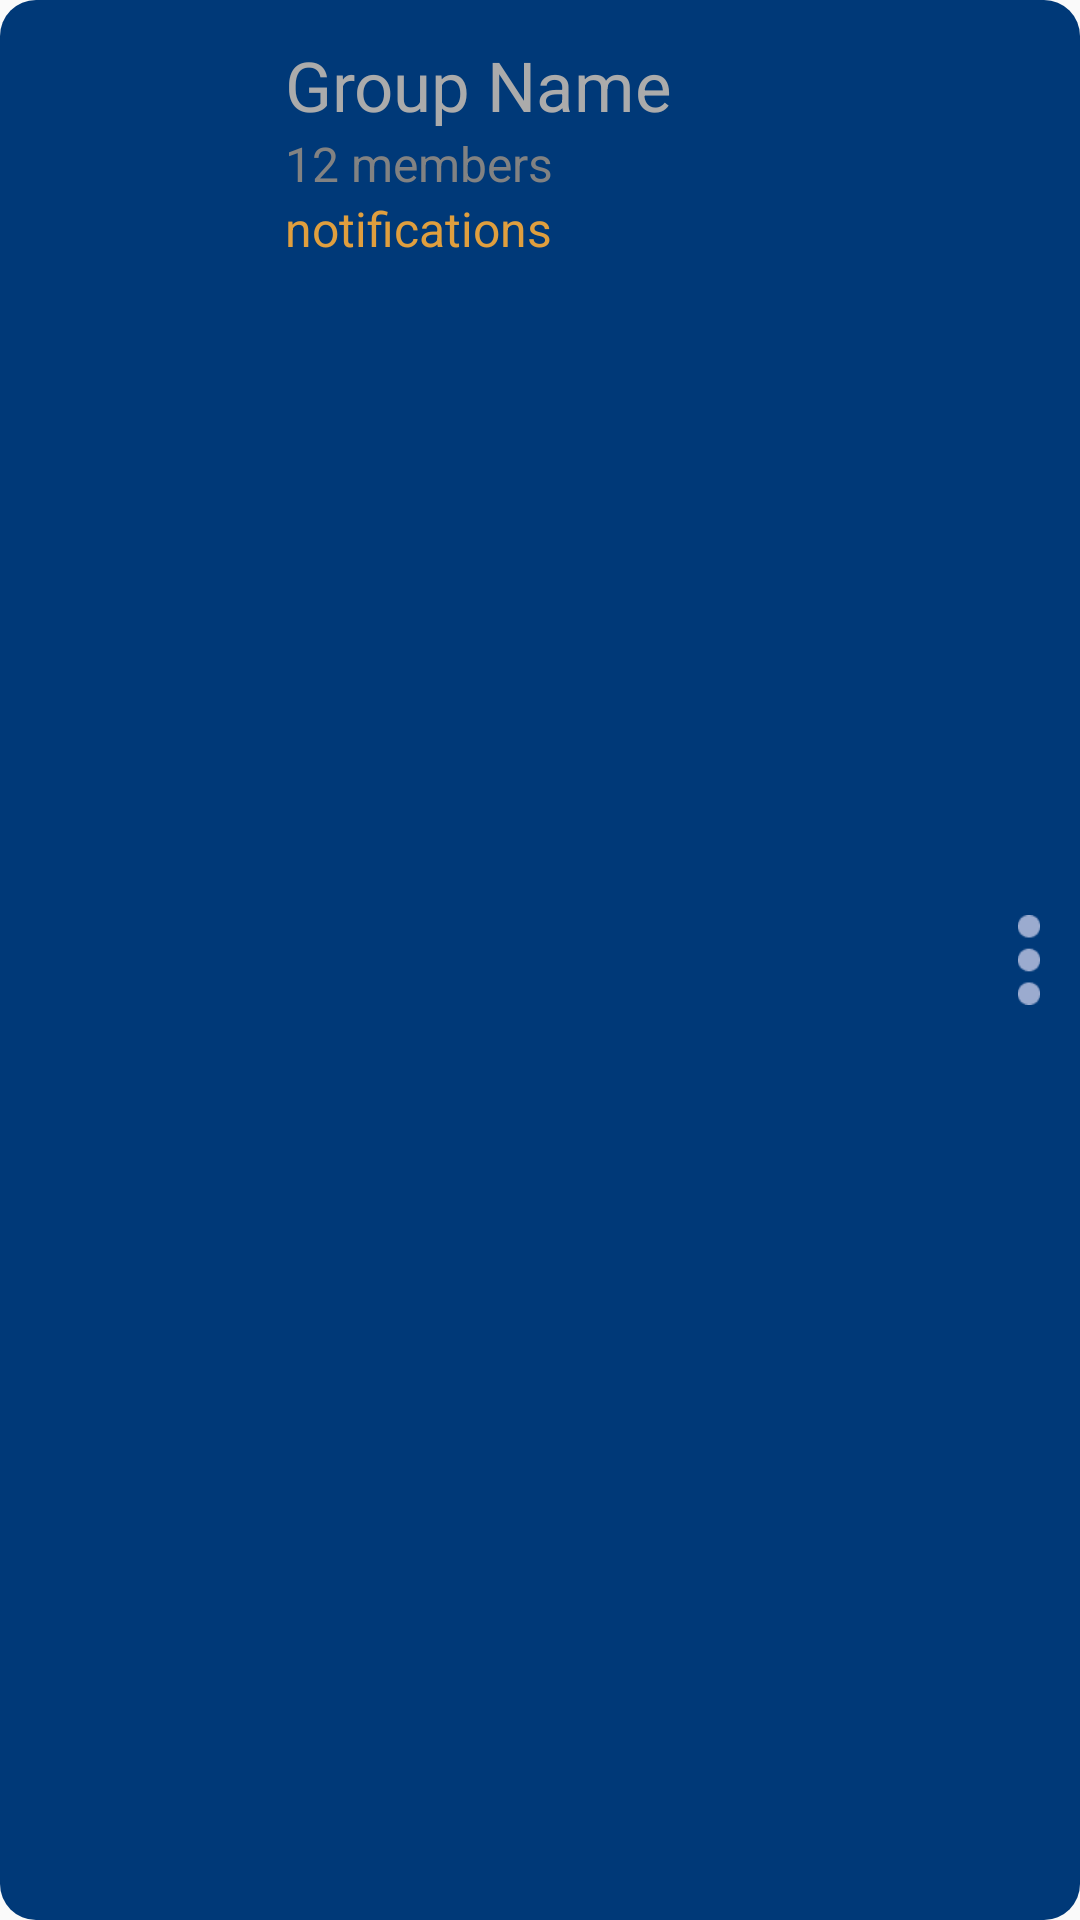

Where to tap for icons on this 1080px×1920px app screen, as (x=x, y=y):
three dots: (x=1029, y=960)
